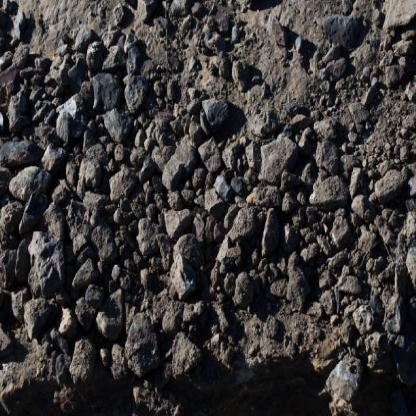Sedimentary_Limestone: (322, 347, 358, 413), (6, 165, 52, 205), (166, 236, 200, 290), (90, 64, 123, 116), (230, 56, 262, 103), (306, 174, 346, 210), (197, 91, 234, 129), (56, 94, 80, 146), (161, 157, 189, 194), (173, 324, 194, 371)
